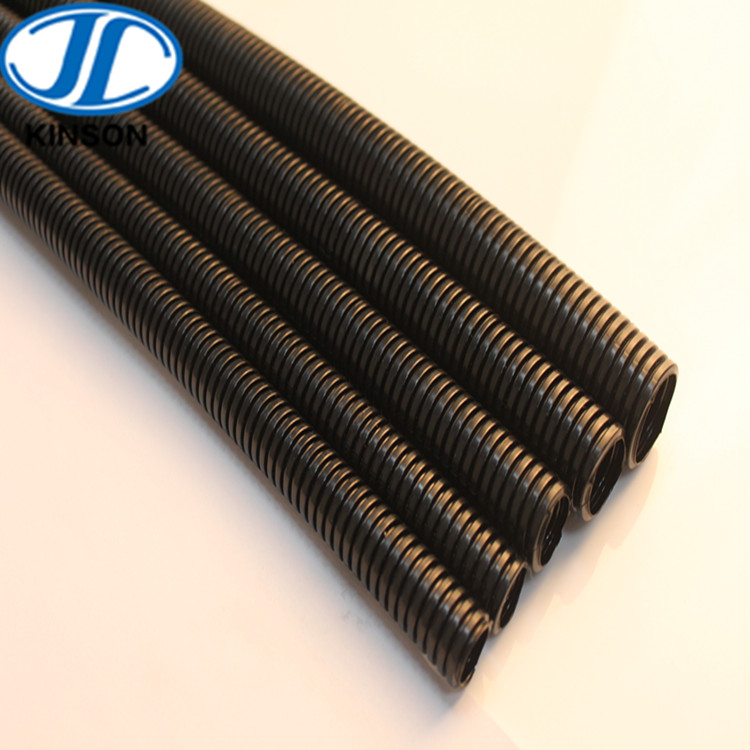Nonrec_Plastic: (1, 1, 683, 697)
